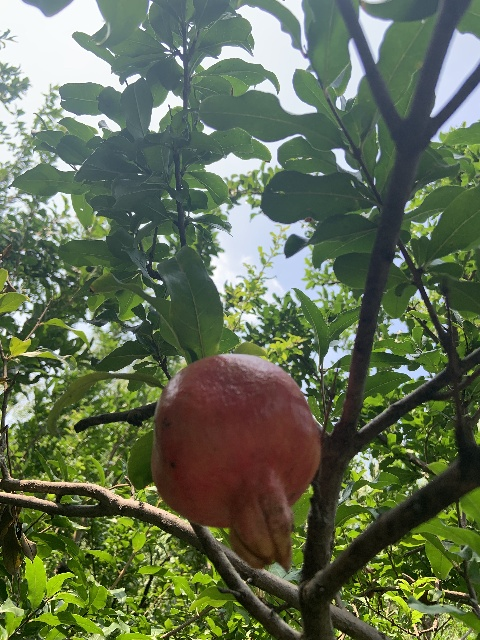ripe: (149, 353, 322, 570)
